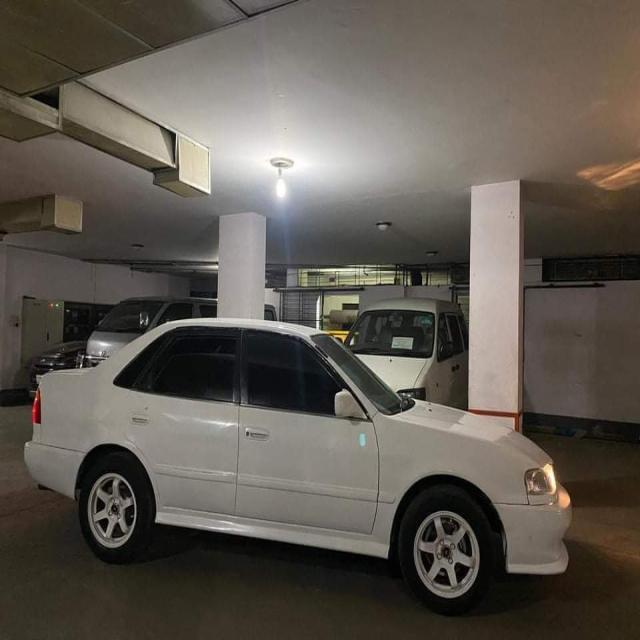white: (20, 337, 549, 602), (344, 306, 472, 420)
